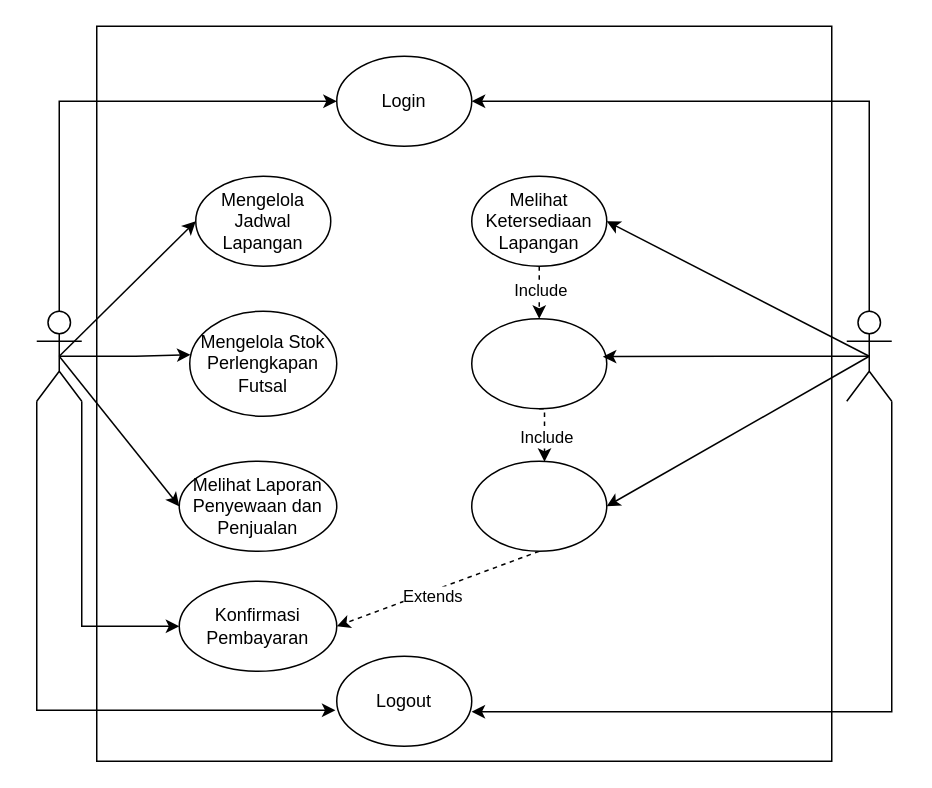
Image size: 932x788. Some labels were removed from this diagram. The shapes that lost their labels are listed below. From the top down, each one's centre as x and y in pixels, then its label:
point 58,355: Admin
point 538,363: Melakukan reservasi
point 868,355: Penyewa
point 538,505: Melakukan Pembayaran
